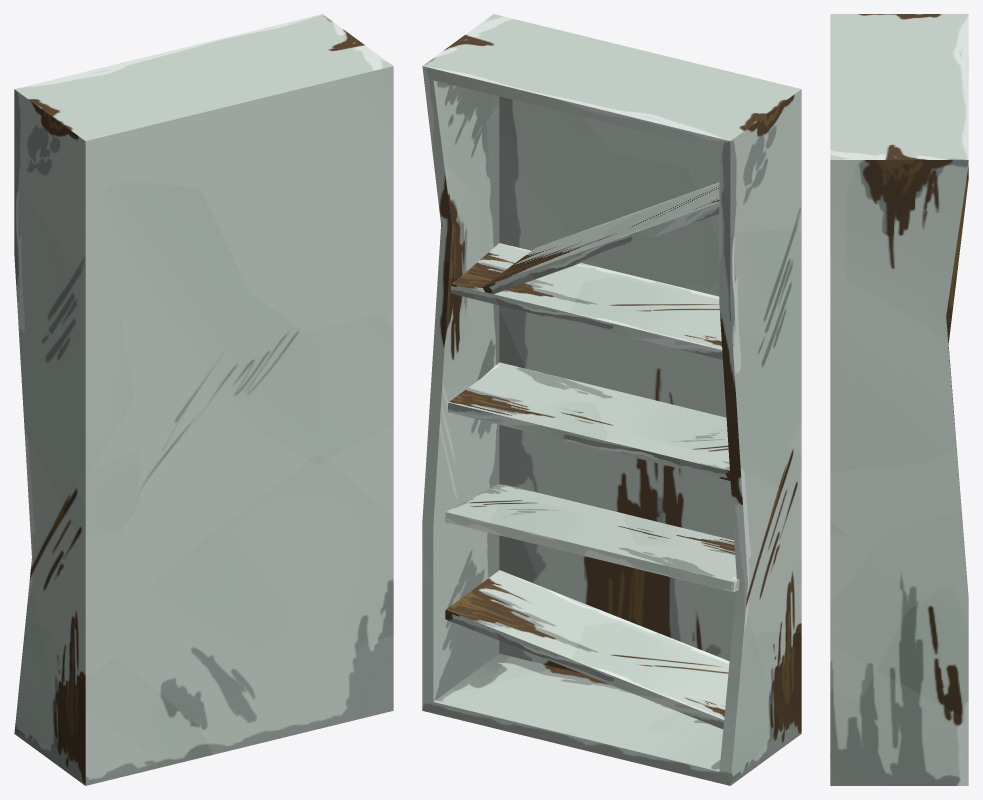
File: Bookshelf_1.obj
3 renders of one model, left to right at view 1: azimuth 30°, elevation 25°; view 2: azimuth 150°, elevation 25°; view 3: azimuth 270°, elevation 25°, orthographic. The views are drawn at different scales.
Visible parts, largest first — view 1: Bookshelf_1_Bookshelf_1_Material_1; view 2: Bookshelf_1_Bookshelf_1_Material_1, Shelf_5_Bookshelf_1_Material_1, Shelf_3_Bookshelf_1_Material_1, Shelf_4_Bookshelf_1_Material_1, Shelf_2_Bookshelf_1_Material_1, Shelf_1_Bookshelf_1_Material_1; view 3: Bookshelf_1_Bookshelf_1_Material_1.
Part boxes in pixels (bbox=[...]): Bookshelf_1_Bookshelf_1_Material_1: bbox=[14, 14, 393, 785]; Bookshelf_1_Bookshelf_1_Material_1: bbox=[422, 14, 801, 785]; Shelf_5_Bookshelf_1_Material_1: bbox=[445, 570, 729, 729]; Shelf_3_Bookshelf_1_Material_1: bbox=[448, 362, 730, 480]; Shelf_4_Bookshelf_1_Material_1: bbox=[445, 483, 739, 592]; Shelf_2_Bookshelf_1_Material_1: bbox=[451, 243, 722, 359]; Shelf_1_Bookshelf_1_Material_1: bbox=[482, 182, 719, 294]; Bookshelf_1_Bookshelf_1_Material_1: bbox=[830, 14, 968, 785].
Bounding box in the file's own units: 1 × 2 × 0.4.
